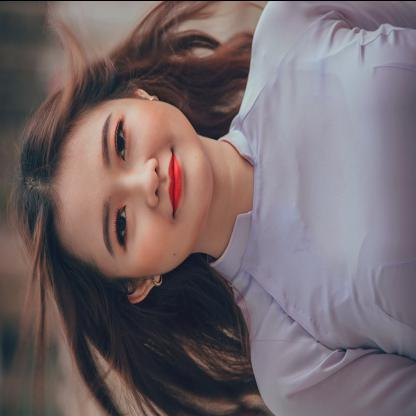Eye: (111, 200, 135, 256), (111, 113, 132, 165)
Mouth: (164, 134, 188, 221)
Nose: (124, 150, 166, 210)
